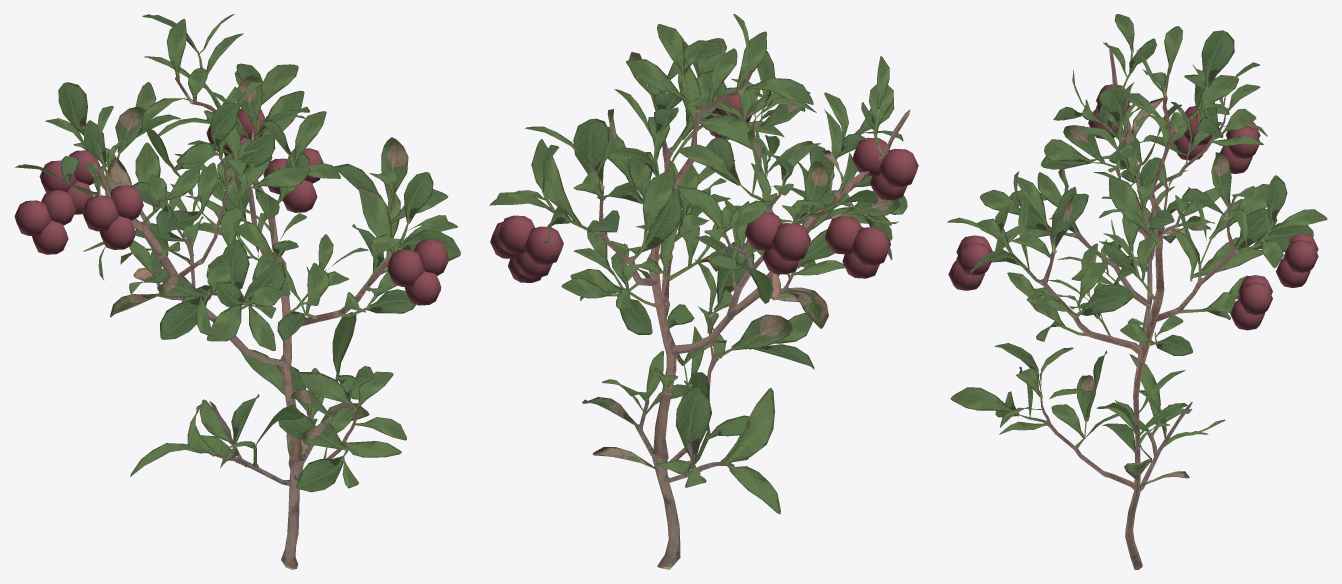
Rendered from natural-leafy-berries-weathered.glb.
3 renders of one model, left to right at view 1: azimuth 30°, elevation 25°; view 2: azimuth 150°, elevation 25°; view 3: azimuth 270°, elevation 25°, orthographic. The views are drawn at different scales.
Visible parts, largest first — view 1: natural-leafy-berries-weathered runtime mesh; view 2: natural-leafy-berries-weathered runtime mesh; view 3: natural-leafy-berries-weathered runtime mesh.
Boxes of the visible parts, box(x1,y1,x2,y2) form: natural-leafy-berries-weathered runtime mesh: box(14, 14, 460, 569); natural-leafy-berries-weathered runtime mesh: box(489, 14, 918, 569); natural-leafy-berries-weathered runtime mesh: box(947, 14, 1327, 569).
Size of the model in its own units: 0.7095 by 1.05 by 0.7176.
Materials: 2 (1 with a texture image).
